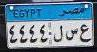4: (8, 24, 17, 43), (19, 26, 28, 45), (29, 24, 38, 42), (38, 23, 46, 43)
س: (66, 24, 80, 41)
ع: (79, 23, 89, 42)
ل: (53, 22, 66, 43)
